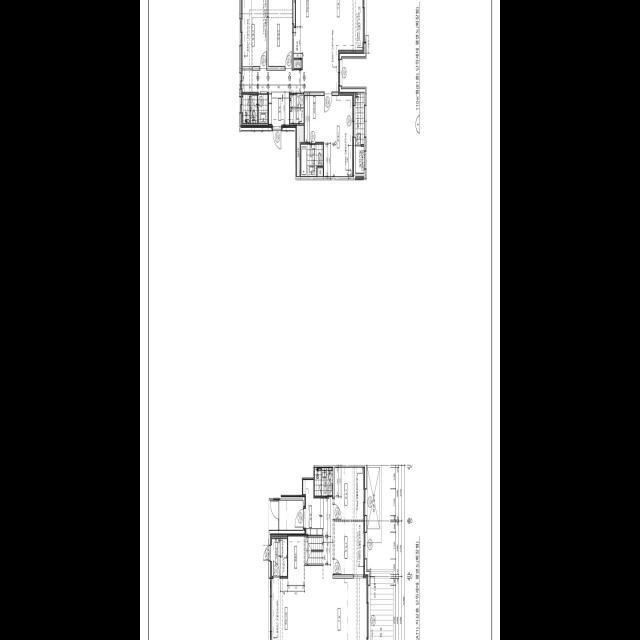background: (140, 0, 500, 640)
space_balconi: (356, 92, 364, 144)
space_bedroom: (324, 92, 354, 176), (241, 0, 267, 66), (335, 521, 365, 574), (335, 467, 365, 519), (269, 0, 292, 66)
space_dressroom: (305, 95, 324, 141)
space_front: (303, 479, 323, 535), (269, 91, 289, 129)
space_kitchen: (272, 565, 323, 640), (296, 0, 320, 57)
space_living_room: (241, 0, 364, 91), (323, 498, 368, 640)
space_multipurpose_space: (271, 538, 287, 575)
space_other: (288, 534, 304, 578), (279, 500, 303, 529), (290, 95, 304, 123), (297, 125, 304, 176), (294, 27, 303, 57), (294, 59, 302, 67), (293, 0, 295, 25), (318, 167, 323, 176)
space_outdoor_room: (356, 146, 364, 172)
space_staircase: (305, 536, 324, 563)
space_toilet: (301, 144, 323, 176), (243, 94, 267, 123), (315, 467, 333, 495)
